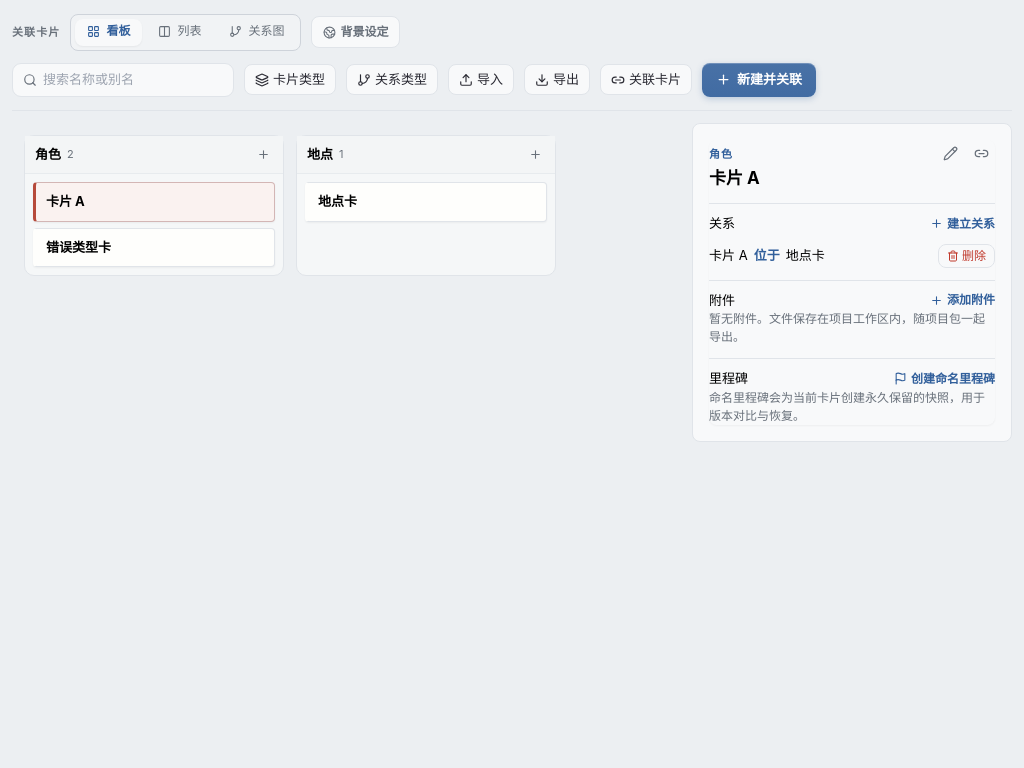
Test: 建立关系时目标过滤与语义 › 显示正向/反向语义，起点类型不匹配时给出警告
Click the button "建立关系" at (962, 224), box [930, 215, 995, 233]
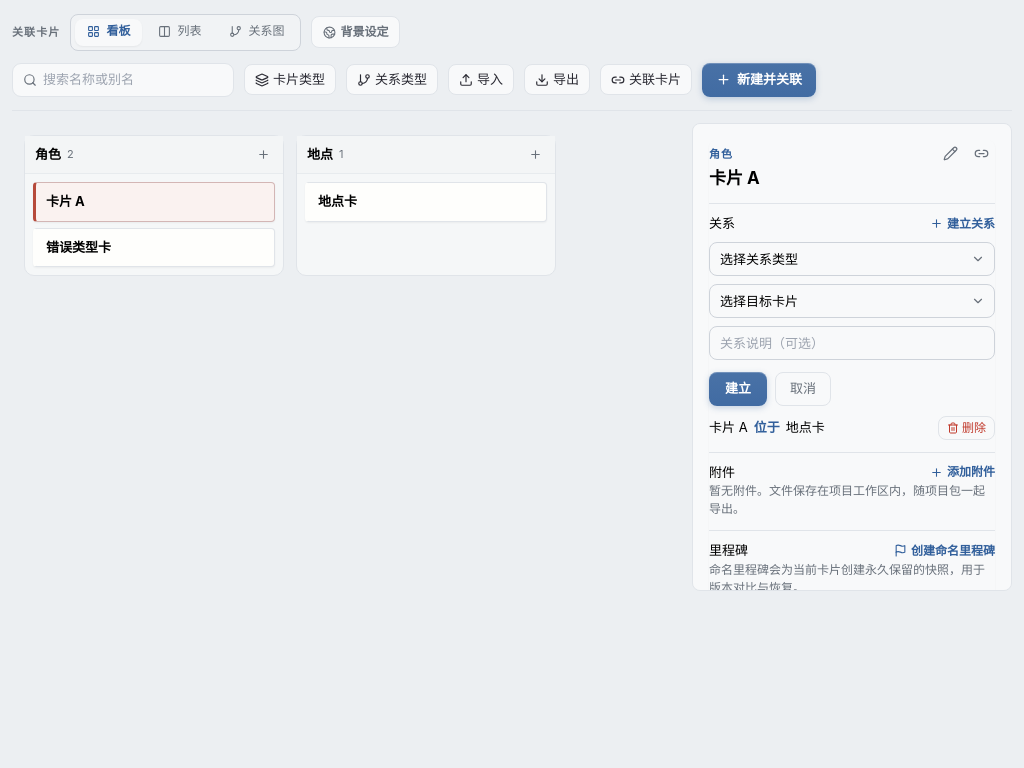
Select "位于（反向：包含）" in the 1st dropdown at (852, 258), box [709, 242, 995, 276]
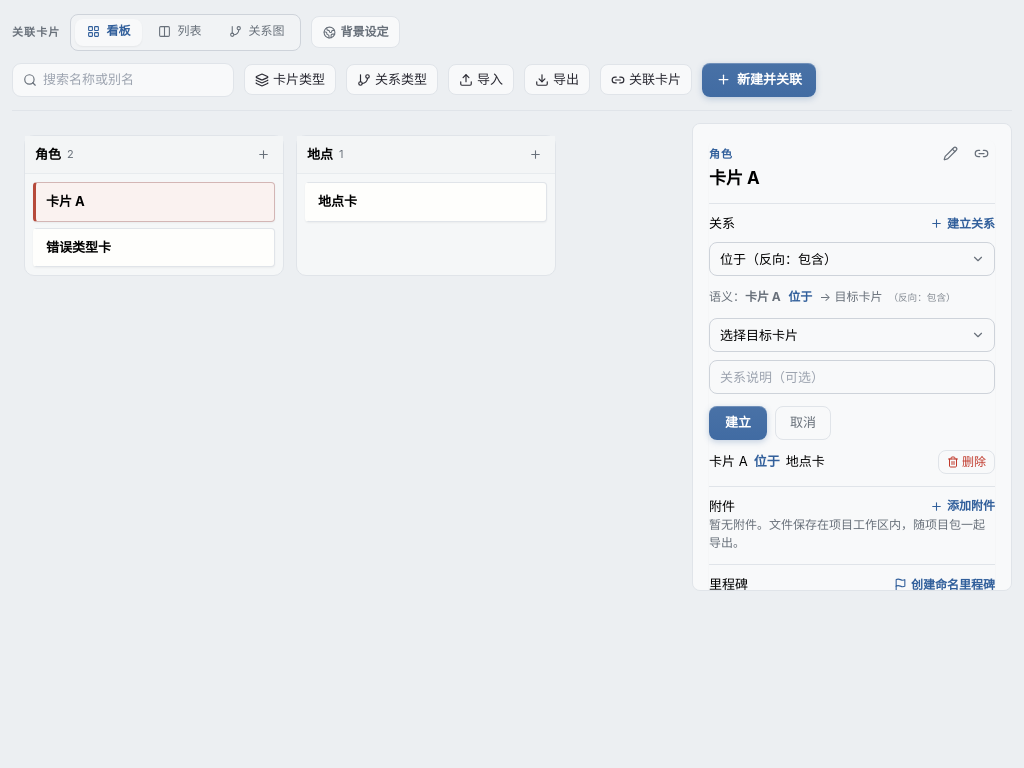
Now the element with class "cards-relation-semantic" shows "语义：", box [709, 288, 745, 304]
Now the element with class "cards-relation-semantic" shows "位于", box [788, 288, 812, 304]
Now the element with class "cards-relation-semantic" shows "反向：包含", box [709, 288, 995, 306]
